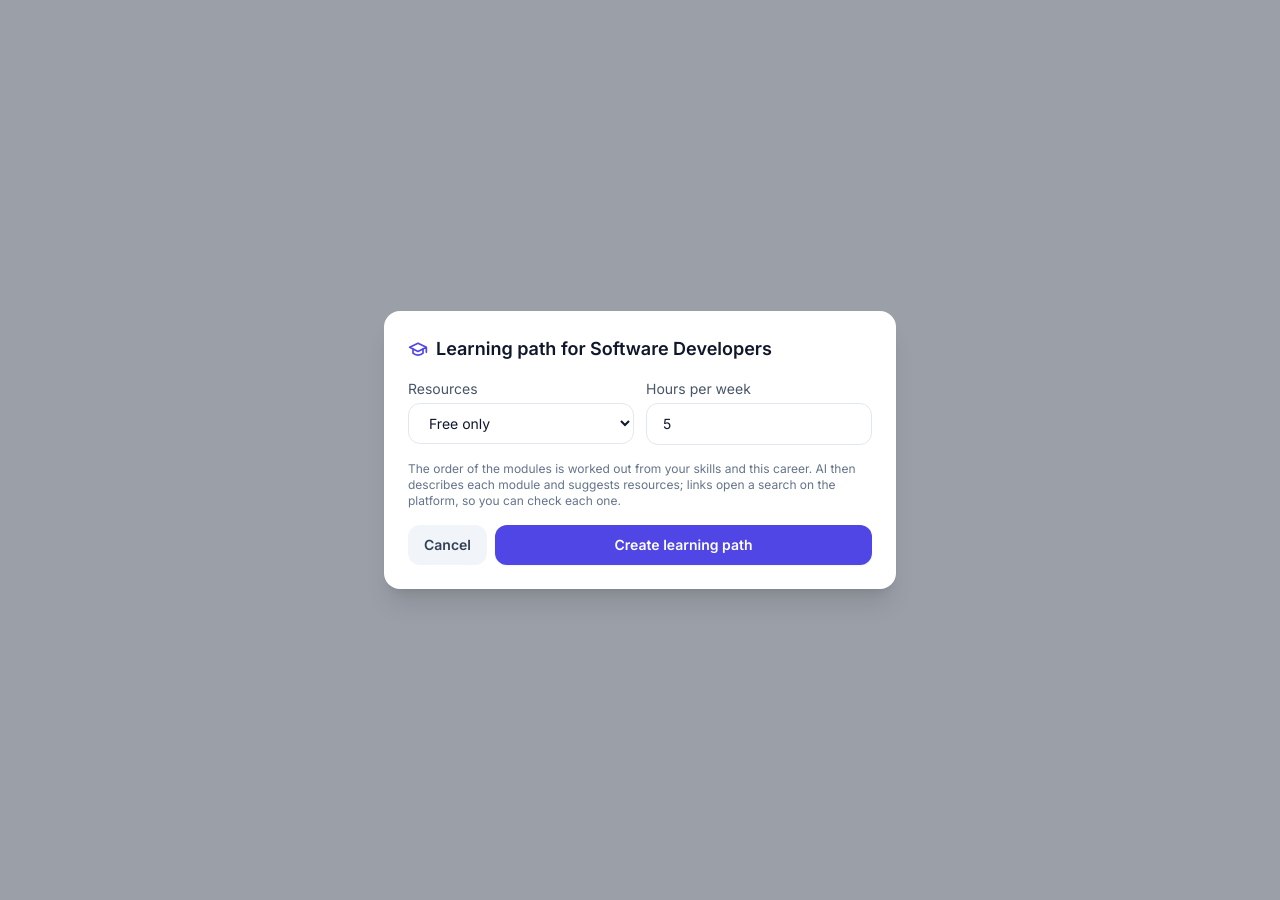
GeneratePathDialog › shows the reason when a path cannot be created
Click the button "Create learning path" at [684, 545], box [495,525,872,565]
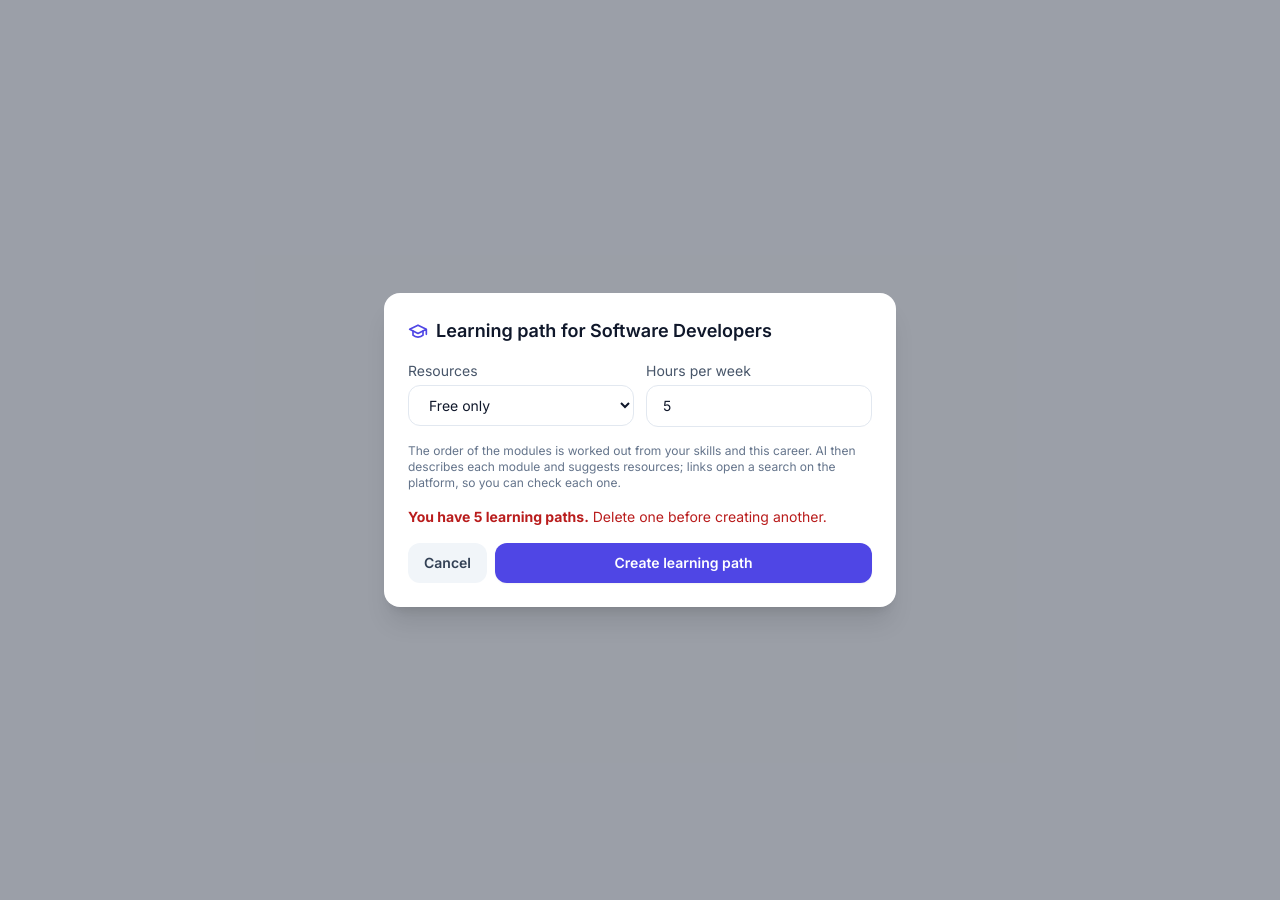
Expected: the message shows "You have 5 learning paths", [408,508,584,525]
